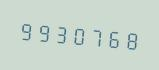eight: (119, 23, 135, 54)
nine: (17, 14, 33, 45), (34, 16, 50, 47)
seven: (85, 20, 101, 51)
six: (102, 22, 118, 53)
three: (51, 17, 67, 48)
zero: (68, 19, 84, 50)
